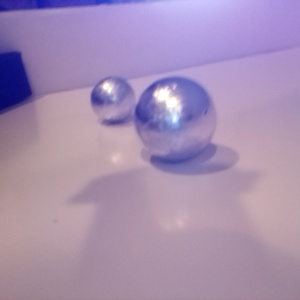alive_ball: (135, 76, 216, 161), (91, 76, 137, 123)
